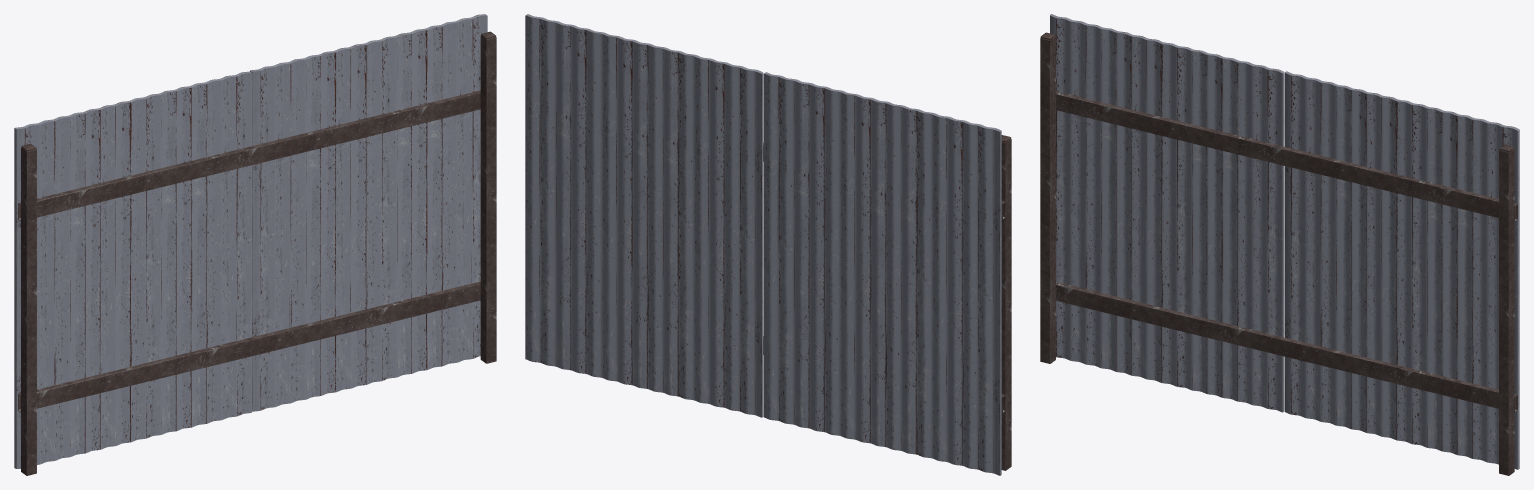
Rendered from CorrugatedFence.fbx.
The picture shows the model from 3 angles, left to right: view 1: azimuth 30°, elevation 25°; view 2: azimuth 150°, elevation 25°; view 3: azimuth 330°, elevation 25°; orthographic projection.
Visible parts, largest first — view 1: polySurface19; view 2: polySurface19; view 3: polySurface19.
Boxes of the visible parts, x1=… form: polySurface19: x1=14, y1=14, x2=496, y2=475; polySurface19: x1=525, y1=14, x2=1011, y2=475; polySurface19: x1=1040, y1=14, x2=1519, y2=475.
Size of the model in its own units: 455 by 314 by 20.01.
